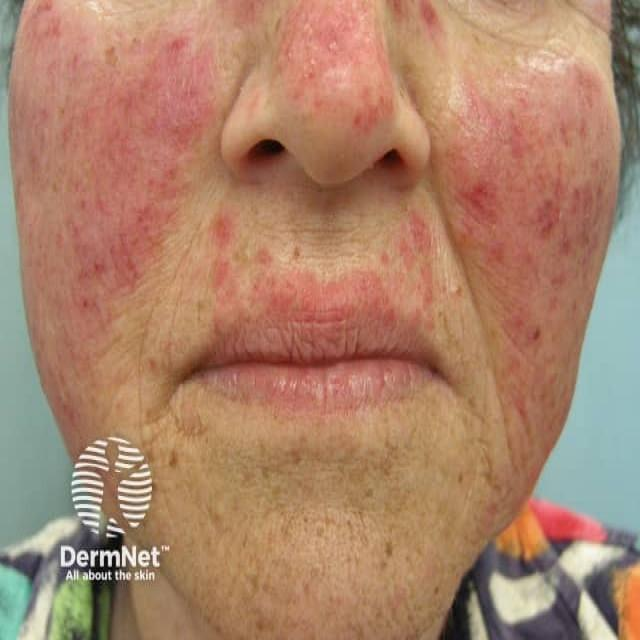lupus-detected: (438, 62, 640, 542), (8, 6, 242, 420), (185, 218, 502, 368), (250, 0, 449, 188)
